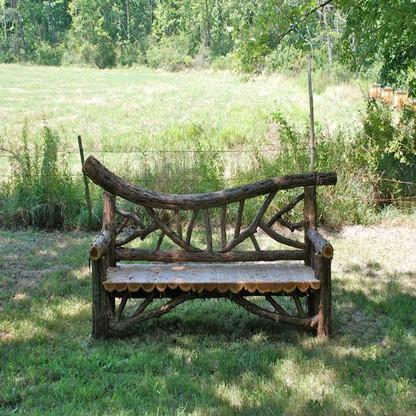obstacle: (59, 146, 367, 354)
